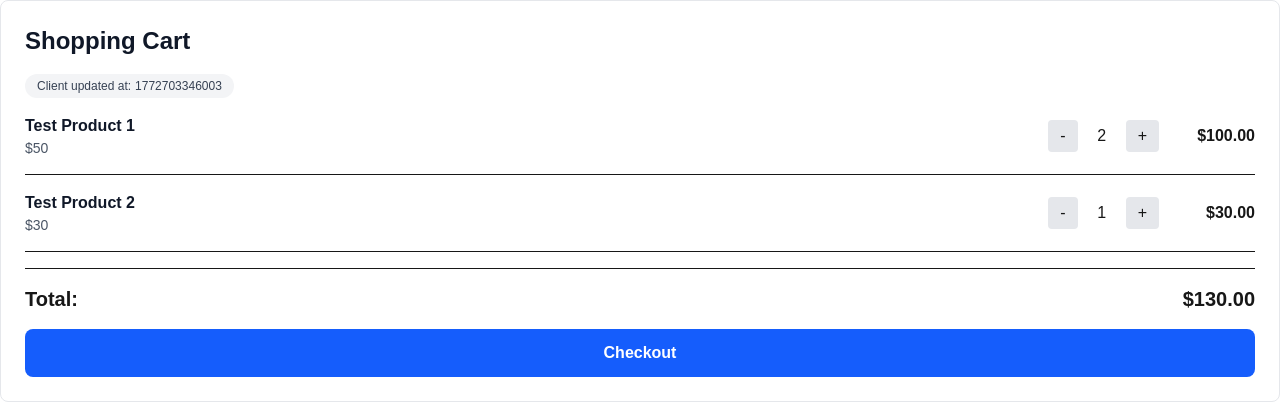
Scenario: ShoppingCart › decreases quantity when - button is clicked
The width and height of the screenshot is (1280, 419).
Click the button named "Decrease quantity" at (1063, 136), box [1048, 120, 1078, 152]
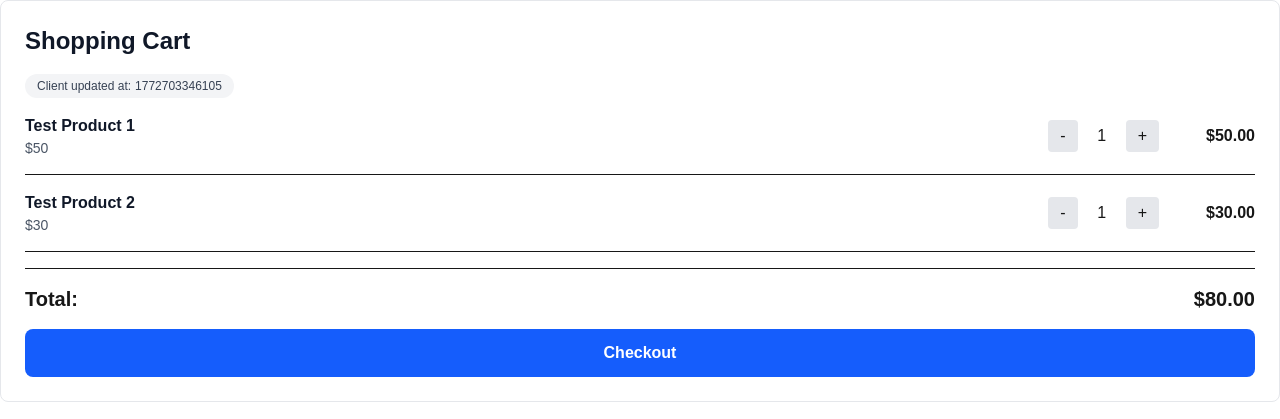
Expected: the text "$80.00" is shown, [1194, 285, 1255, 313]
